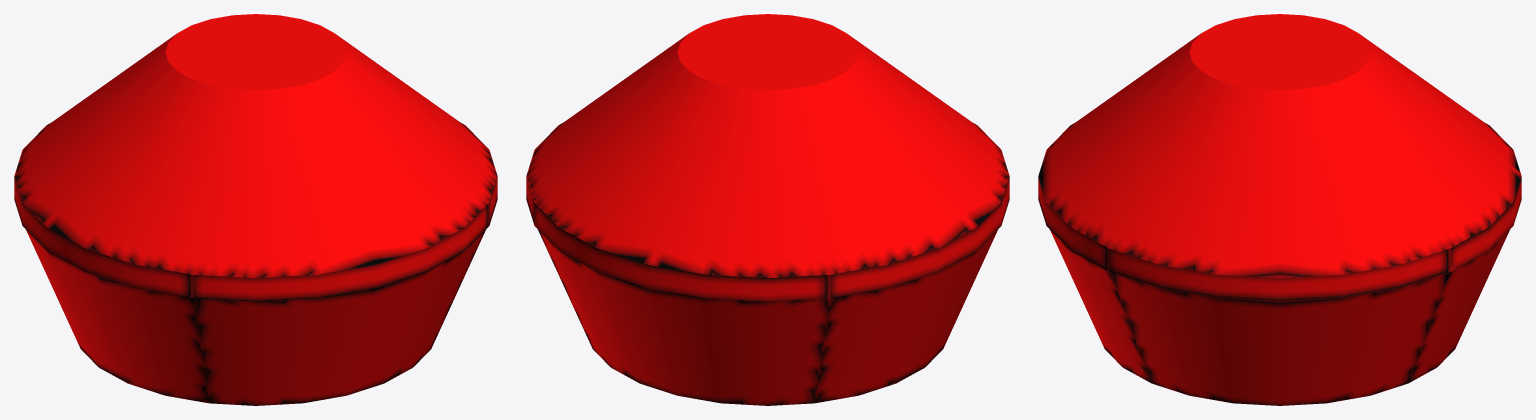
The model's file is Alniyat_Crew_1_Interior.obj.
3 renders of one model, left to right at view 1: azimuth 30°, elevation 25°; view 2: azimuth 150°, elevation 25°; view 3: azimuth 270°, elevation 25°, orthographic.
Visible parts, largest first — view 1: Alniyat_Crew_1_Interior; view 2: Alniyat_Crew_1_Interior; view 3: Alniyat_Crew_1_Interior.
Boxes of the visible parts, <box> form: Alniyat_Crew_1_Interior: <box>14,14,497,405</box>; Alniyat_Crew_1_Interior: <box>526,14,1009,405</box>; Alniyat_Crew_1_Interior: <box>1038,14,1521,405</box>.
Bounding box in the file's own units: 2.47 × 1.57 × 2.47.
Materials: 1 (1 with a texture image).
